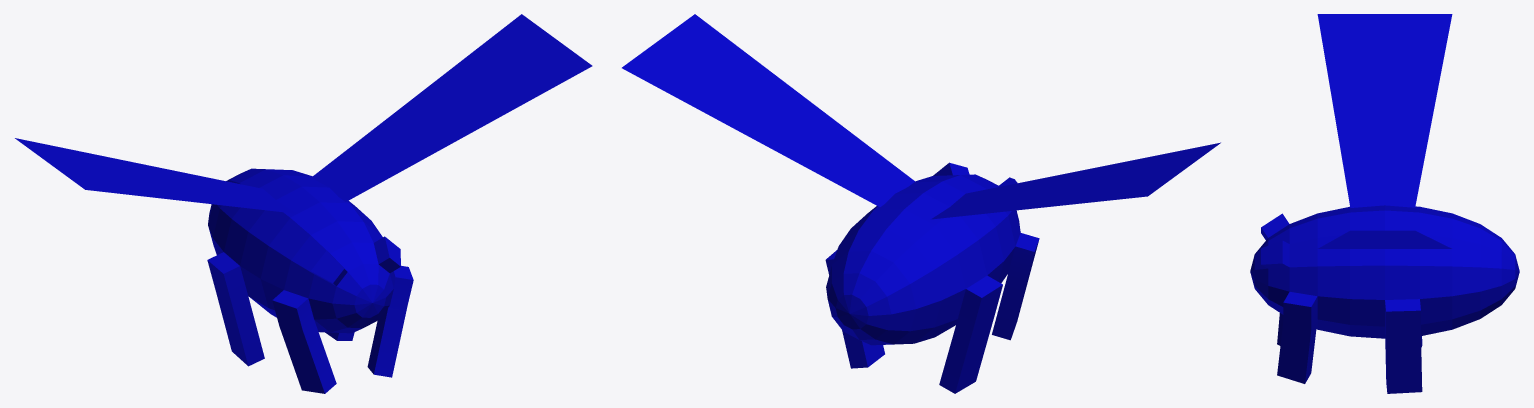
The model's file is fly1.dae.
3 renders of one model, left to right at view 1: azimuth 30°, elevation 25°; view 2: azimuth 150°, elevation 25°; view 3: azimuth 270°, elevation 25°, orthographic. The views are drawn at different scales.
Parts seen in each view (by area): view 1: pSphere1, pPlane3, pPlane2; view 2: pSphere1, pPlane3, pPlane2; view 3: pSphere1, pPlane2, pPlane3.
Part boxes in pixels (<box>): pSphere1: <box>207,168,413,393</box>; pPlane3: <box>312,14,592,201</box>; pPlane2: <box>15,138,296,213</box>; pSphere1: <box>825,162,1039,393</box>; pPlane3: <box>622,14,914,206</box>; pPlane2: <box>931,142,1220,219</box>; pSphere1: <box>1250,205,1519,393</box>; pPlane2: <box>1317,14,1452,207</box>; pPlane3: <box>1318,230,1451,248</box>.
Size of the model in its own units: 8.25 by 4 by 3.92.
